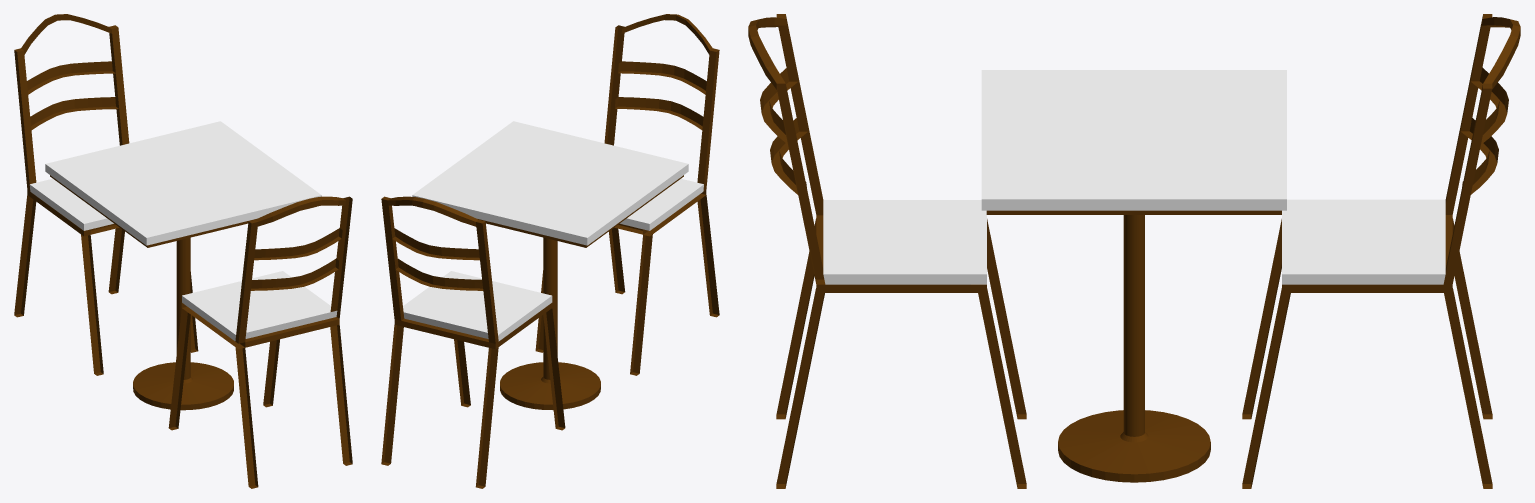
Rendered from Table_Brown.fbx.
3 renders of one model, left to right at view 1: azimuth 30°, elevation 25°; view 2: azimuth 150°, elevation 25°; view 3: azimuth 270°, elevation 25°, orthographic. The views are drawn at different scales.
Parts seen in each view (by area): view 1: Table_Top, Chair_Mesh.2, Chair_Mesh, Chair_Puff.2, Table_Bottom, Chair_Puff; view 2: Table_Top, Chair_Mesh, Chair_Mesh.2, Table_Bottom, Chair_Puff, Chair_Puff.2; view 3: Table_Top, Chair_Mesh, Chair_Mesh.2, Table_Bottom, Chair_Puff, Chair_Puff.2.
Part boxes in pixels (bbox=[...]): Table_Top: bbox=[45, 121, 321, 245]; Chair_Mesh.2: bbox=[168, 196, 352, 488]; Chair_Mesh: bbox=[14, 14, 198, 375]; Chair_Puff.2: bbox=[182, 271, 337, 340]; Table_Bottom: bbox=[50, 175, 316, 410]; Chair_Puff: bbox=[29, 178, 113, 230]; Table_Top: bbox=[412, 121, 688, 245]; Chair_Mesh: bbox=[381, 196, 565, 488]; Chair_Mesh.2: bbox=[535, 14, 719, 375]; Table_Bottom: bbox=[417, 175, 683, 410]; Chair_Puff: bbox=[403, 271, 552, 341]; Chair_Puff.2: bbox=[620, 178, 703, 230]; Table_Top: bbox=[981, 70, 1286, 210]; Chair_Mesh: bbox=[1242, 14, 1520, 488]; Chair_Mesh.2: bbox=[748, 14, 1026, 488]; Table_Bottom: bbox=[986, 210, 1281, 482]; Chair_Puff: bbox=[1282, 199, 1445, 284]; Chair_Puff.2: bbox=[823, 200, 986, 284].
Bounding box in the file's own units: 1011 × 400 × 616.
Materials: 6 (6 with a texture image).
